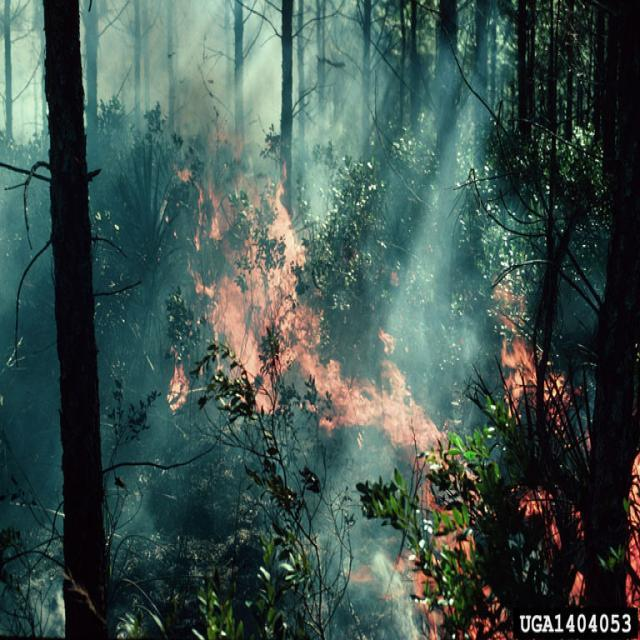Fire: (168, 125, 587, 640)
